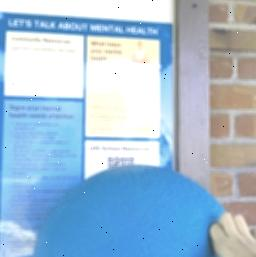algae: (29, 163, 245, 257)
